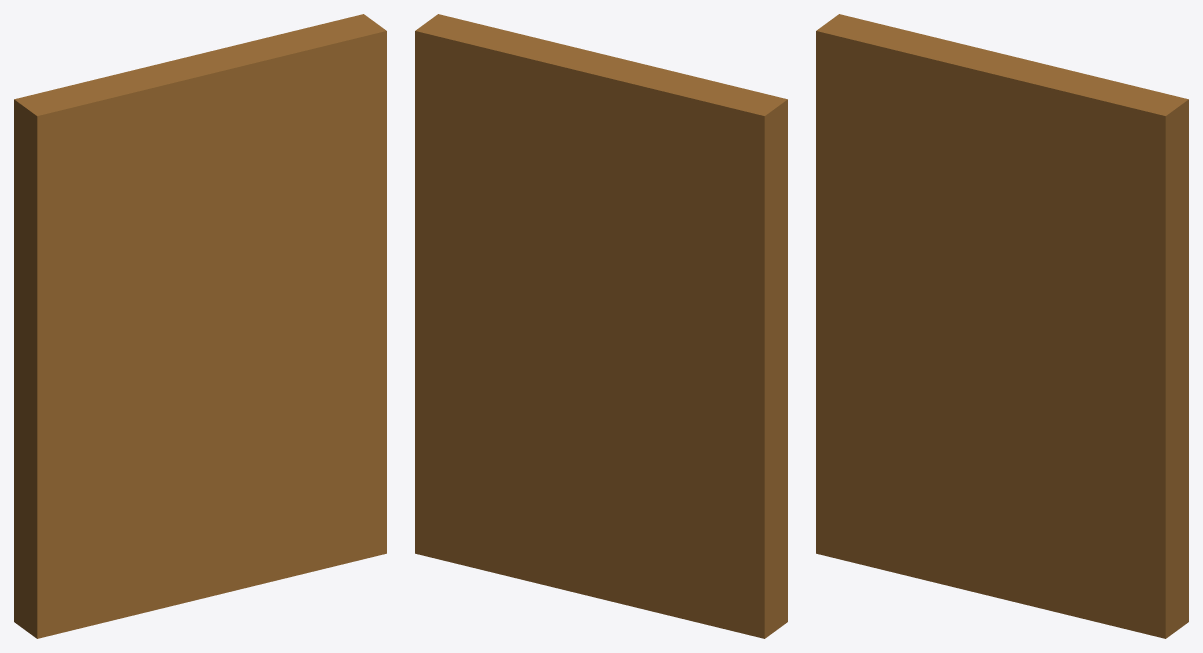
The model's file is A_ToolBoard.fbx.
3 renders of one model, left to right at view 1: azimuth 30°, elevation 25°; view 2: azimuth 150°, elevation 25°; view 3: azimuth 330°, elevation 25°, orthographic.
Visible parts, largest first — view 1: A_ToolBoard.004; view 2: A_ToolBoard.004; view 3: A_ToolBoard.004.
Part boxes in pixels (bbox=[...]): A_ToolBoard.004: bbox=[14, 14, 386, 638]; A_ToolBoard.004: bbox=[415, 14, 787, 638]; A_ToolBoard.004: bbox=[816, 14, 1188, 638].
Size of the model in its own units: 0.7 by 1 by 0.08.
